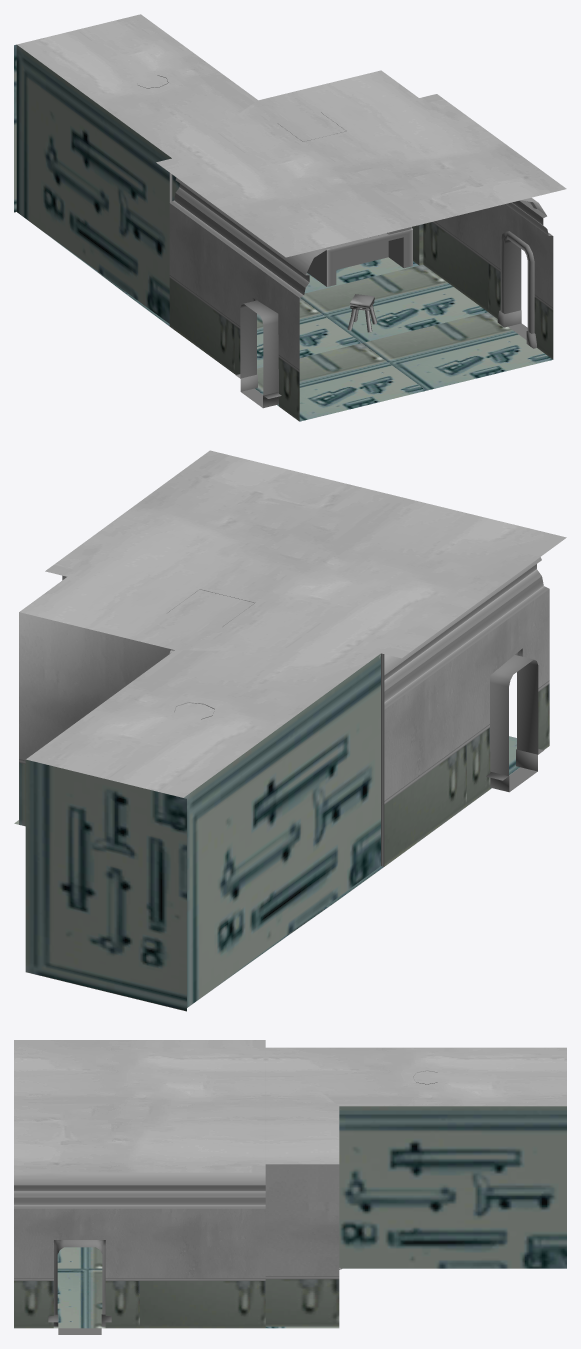
Rendered from MSH_Radio_station_room_L1_R1_optimized.fbx.
The picture shows the model from 3 angles, top to bottom: view 1: azimuth 30°, elevation 25°; view 2: azimuth 150°, elevation 25°; view 3: azimuth 270°, elevation 25°; orthographic projection. The views are drawn at different scales.
Parts seen in each view (by area): view 1: lightmap1, lightmap0; view 2: lightmap1; view 3: lightmap1.
Boxes of the visible parts, x1,y1,x2,y2 form: lightmap1: (14, 14, 566, 421); lightmap0: (138, 75, 412, 332); lightmap1: (14, 450, 566, 1011); lightmap1: (14, 1040, 566, 1334).
Size of the model in its own units: 10.3 by 5.92 by 18.13.
